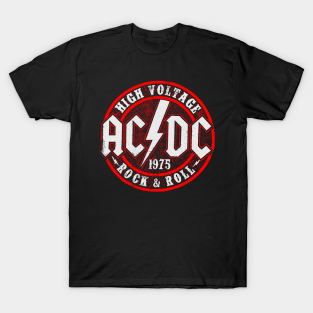design: (98, 78, 217, 193)
